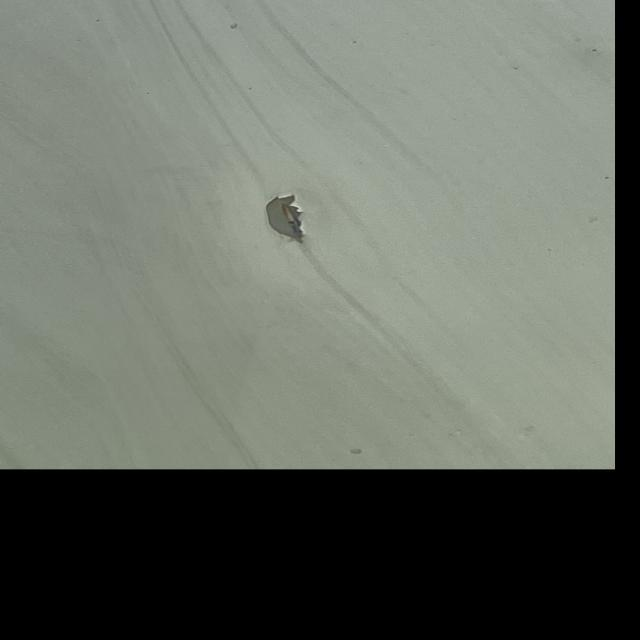crack: (273, 200, 299, 260)
